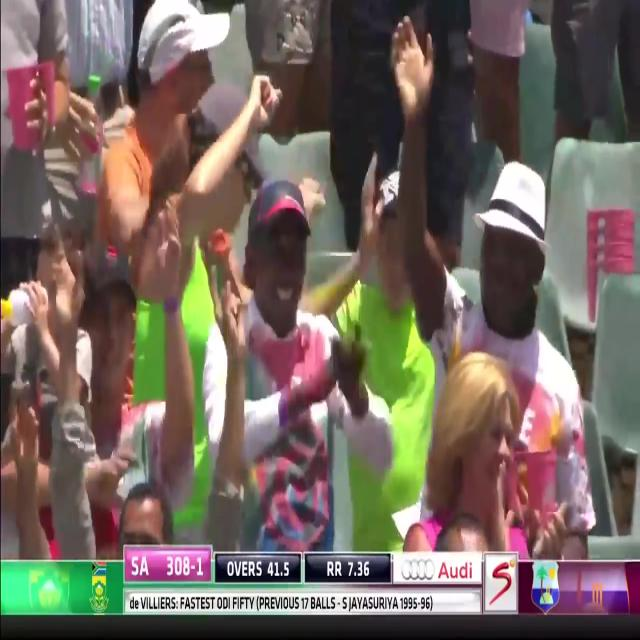Ball: (218, 1, 629, 555)
